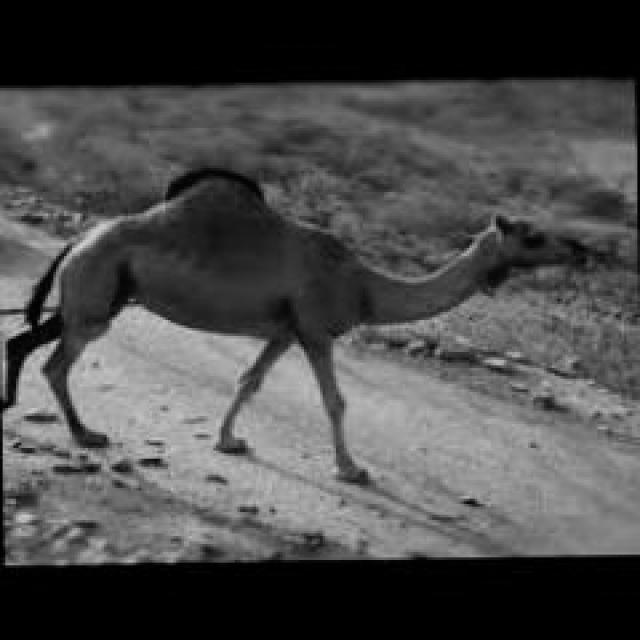Camel: (0, 162, 589, 482)
